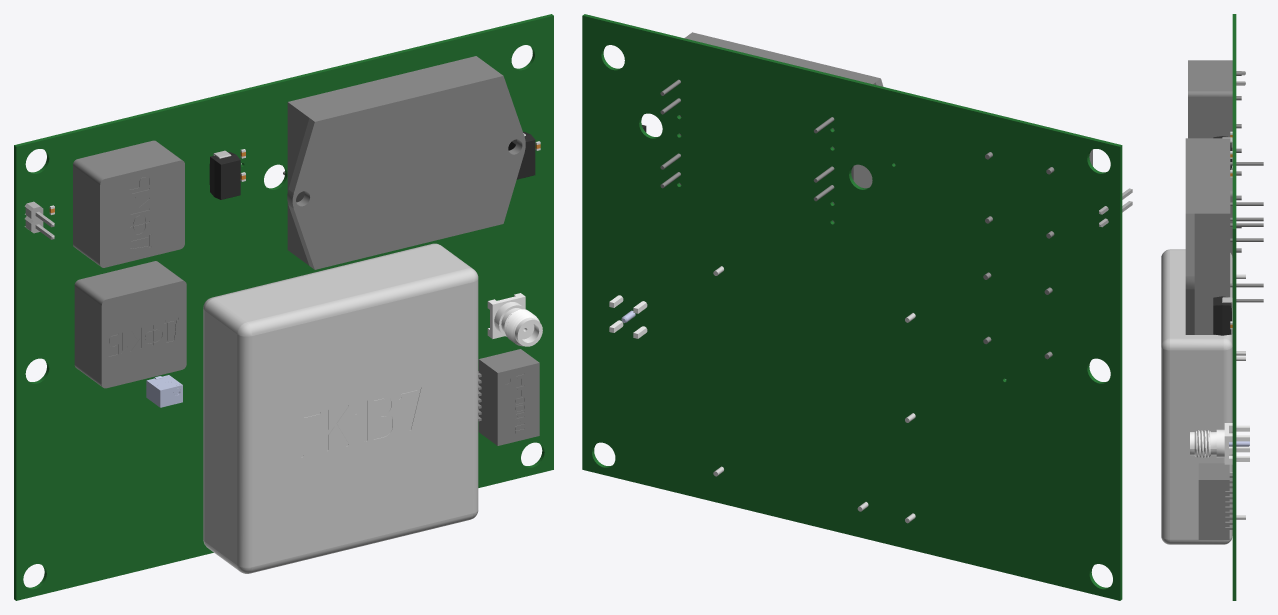
File: PCB13.glb
3 views of the same model, side by side, from view 1: azimuth 30°, elevation 25°; view 2: azimuth 150°, elevation 25°; view 3: azimuth 270°, elevation 25° (orthographic). The views are drawn at different scales.
Parts seen in each view (by area): view 1: Open CASCADE STEP translator 7.5 1.1.1, Ċ137-19, ̈́ʱ0, Ŕ10 (×2), ӌ100-1-1, User Library-SMA_Stehend_Amp 132134RP-1_1, Open CASCADE STEP translator 6.8 8.1.1, 3214W; view 2: Open CASCADE STEP translator 7.5 1.1.1, ̈́ʱ0; view 3: Ċ137-19, ̈́ʱ0, Ŕ10 (×2), Open CASCADE STEP translator 7.5 1.1.1, ӌ100-1-1, User Library-SMA_Stehend_Amp 132134RP-1_1, Open CASCADE STEP translator 6.8 8.1.1.
Part boxes in pixels (x1,y1,x2,y2): Open CASCADE STEP translator 7.5 1.1.1: (14, 14, 553, 600); Ċ137-19: (203, 243, 478, 573); ̈́ʱ0: (283, 56, 525, 269); Ŕ10 (×2): (73, 140, 186, 388); ӌ100-1-1: (478, 349, 539, 445); User Library-SMA_Stehend_Amp 132134RP-1_1: (487, 293, 542, 346); Open CASCADE STEP translator 6.8 8.1.1: (209, 152, 240, 199); 3214W: (146, 375, 182, 407); Open CASCADE STEP translator 7.5 1.1.1: (582, 14, 1122, 600); ̈́ʱ0: (660, 32, 895, 222); Ċ137-19: (1161, 249, 1245, 544); ̈́ʱ0: (1185, 138, 1263, 334); Ŕ10 (×2): (1188, 60, 1241, 257); Open CASCADE STEP translator 7.5 1.1.1: (1232, 14, 1236, 600); ӌ100-1-1: (1198, 463, 1232, 539); User Library-SMA_Stehend_Amp 132134RP-1_1: (1190, 423, 1249, 464); Open CASCADE STEP translator 6.8 8.1.1: (1213, 296, 1231, 335).
Size of the model in its own units: 114 by 92 by 23.
